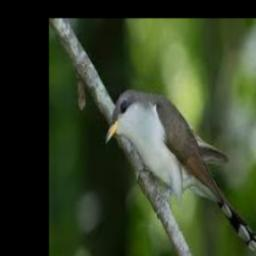Cuckoo: (105, 89, 256, 253)
